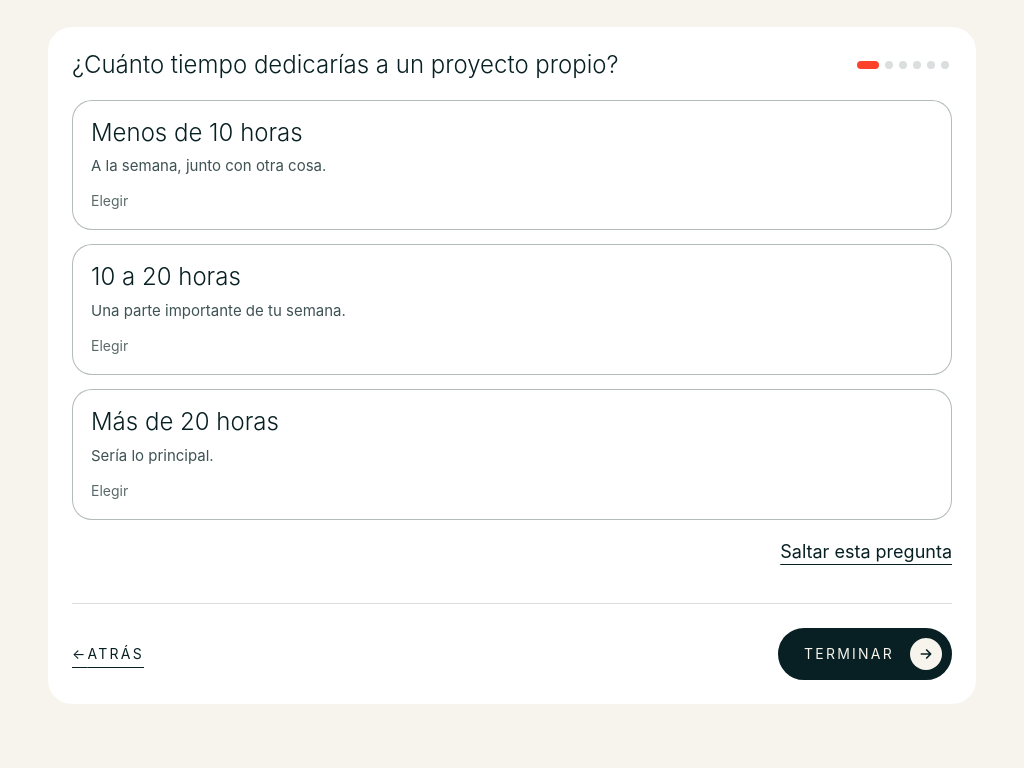
Scenario: FormaView › al elegir con el ratón pasa solo a la pregunta siguiente
(page scrolled)
Step 1. Click the radio button labelled "Más de 20 horas Sería lo principal. Elegir" → (512, 455), box [72,389,952,520]
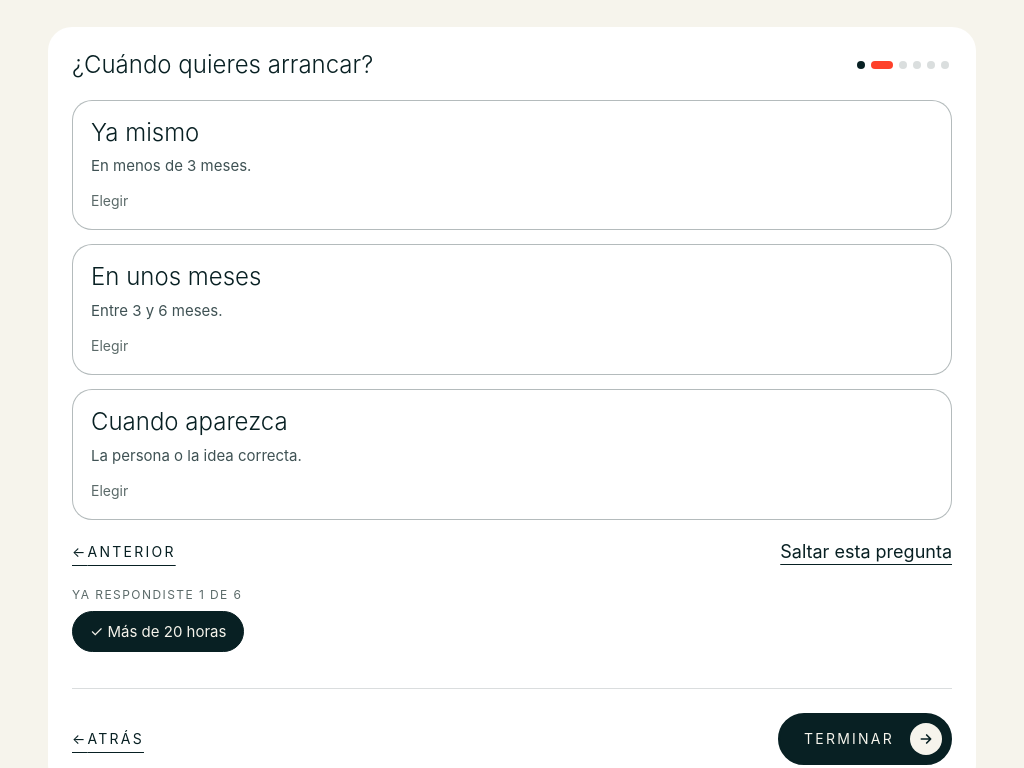
Now the element "¿Cuándo quieres arrancar?" is shown, box [72,51,952,520]
Now the text "Ya respondiste 1 de 6" is shown, box [72,587,242,602]
